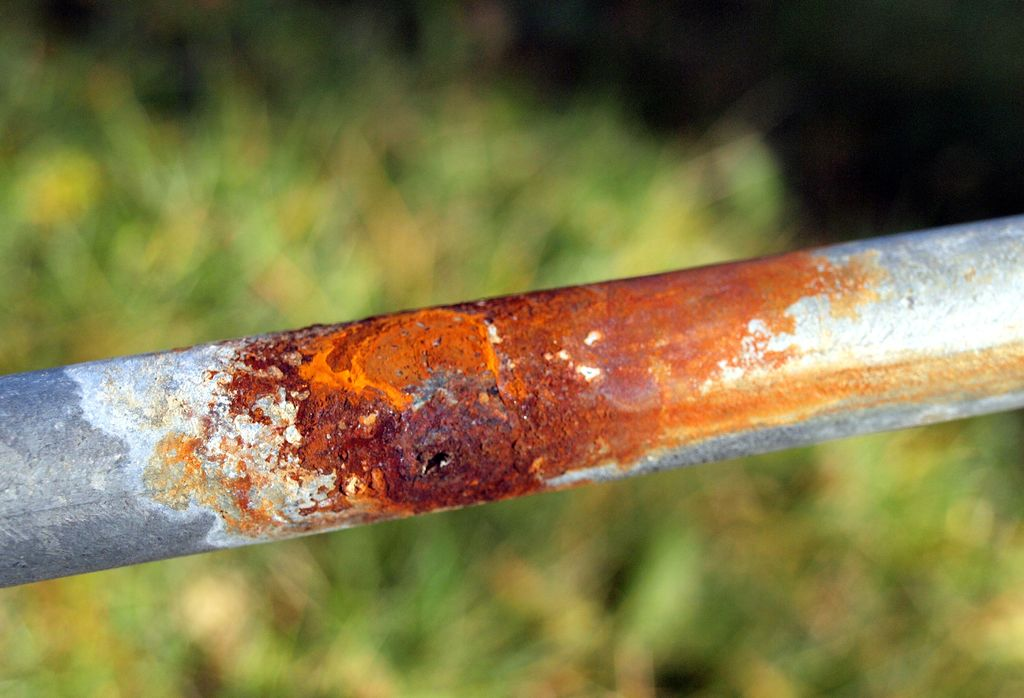Moderate: (607, 245, 1014, 425)
Severe: (74, 317, 545, 544), (356, 293, 800, 519)
